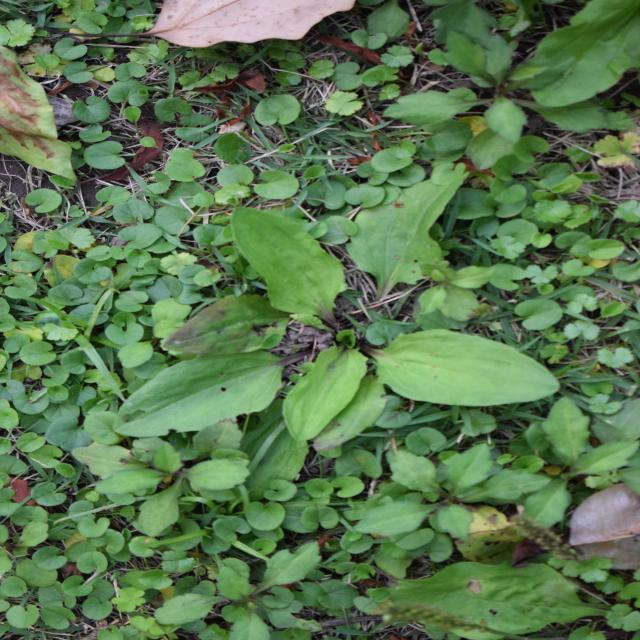plantain: (152, 151, 446, 508)
